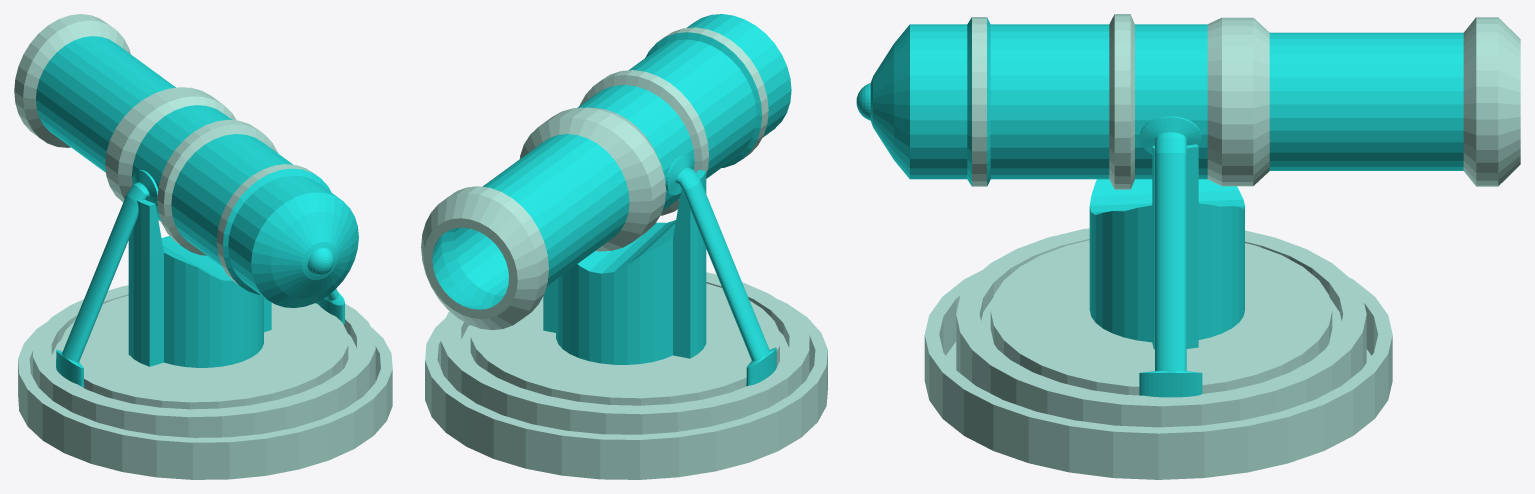
File: Cañon.fbx
The picture shows the model from 3 angles, left to right: view 1: azimuth 30°, elevation 25°; view 2: azimuth 150°, elevation 25°; view 3: azimuth 270°, elevation 25°; orthographic projection. The views are drawn at different scales.
Parts seen in each view (by area): view 1: Cañon, Base 2, base 1, Cilindro, Sostenedores; view 2: Cañon, Base 2, base 1, Cilindro, Sostenedores; view 3: Cañon, Base 2, base 1, Cilindro, Sostenedores.
Part boxes in pixels (<box>): Cañon: <box>14,14,358,307</box>; Base 2: <box>33,285,375,437</box>; base 1: <box>18,322,392,479</box>; Cilindro: <box>128,199,271,367</box>; Sostenedores: <box>56,170,344,387</box>; Cañon: <box>421,14,791,330</box>; Base 2: <box>441,272,809,434</box>; base 1: <box>425,299,827,479</box>; Cilindro: <box>543,170,706,364</box>; Sostenedores: <box>665,154,776,386</box>; Cañon: <box>856,14,1520,189</box>; Base 2: <box>956,228,1366,427</box>; base 1: <box>924,270,1392,479</box>; Cilindro: <box>1089,144,1244,349</box>; Sostenedores: <box>1139,116,1202,397</box>.
Size of the model in its own units: 604 by 510 by 855.
